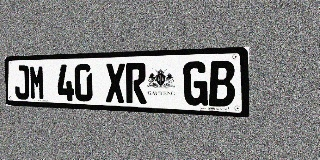0: (74, 64, 92, 102)
4: (57, 64, 74, 101)
B: (209, 60, 235, 107)
G: (183, 61, 208, 106)
J: (14, 65, 29, 99)
M: (29, 65, 45, 100)
R: (125, 62, 147, 104)
X: (105, 63, 125, 103)
